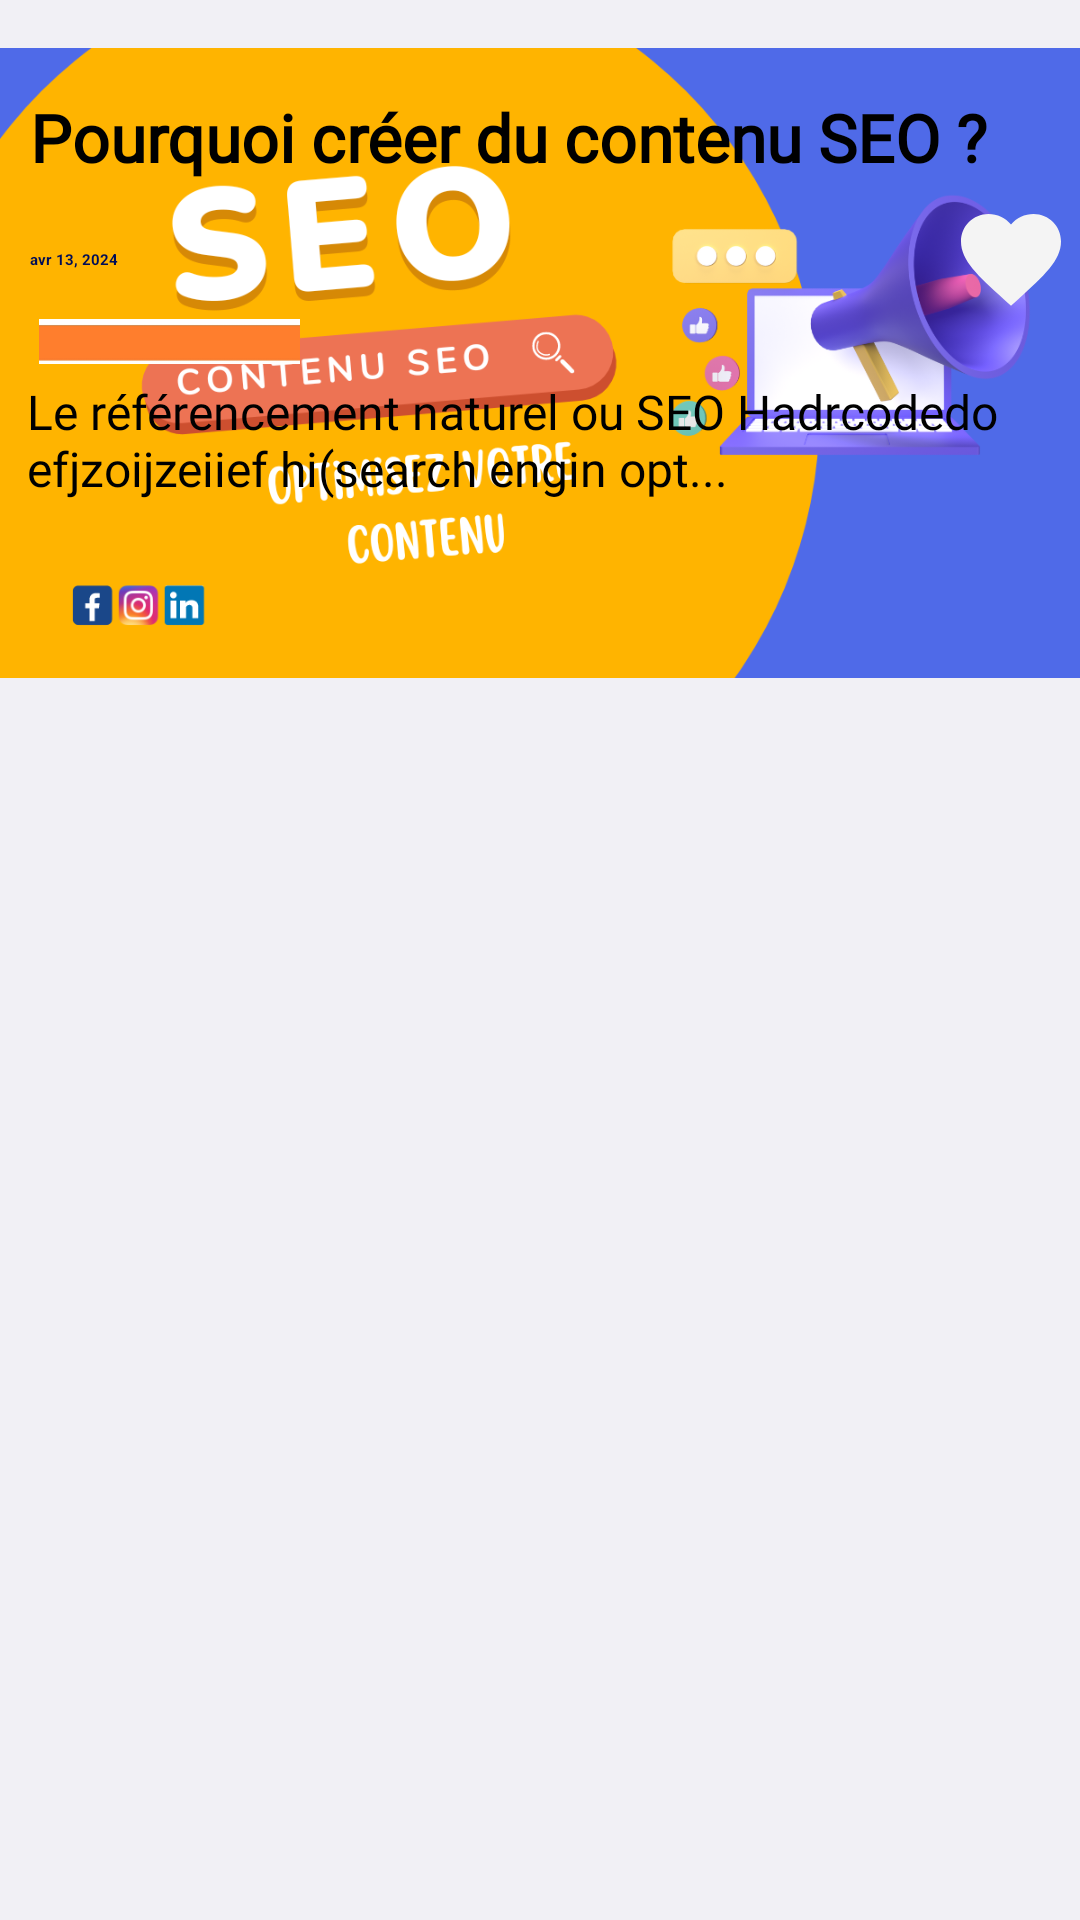

Named icons in this screenshot (1080×1920) and their centers, [x,y]:
favorite: [1011,259]
